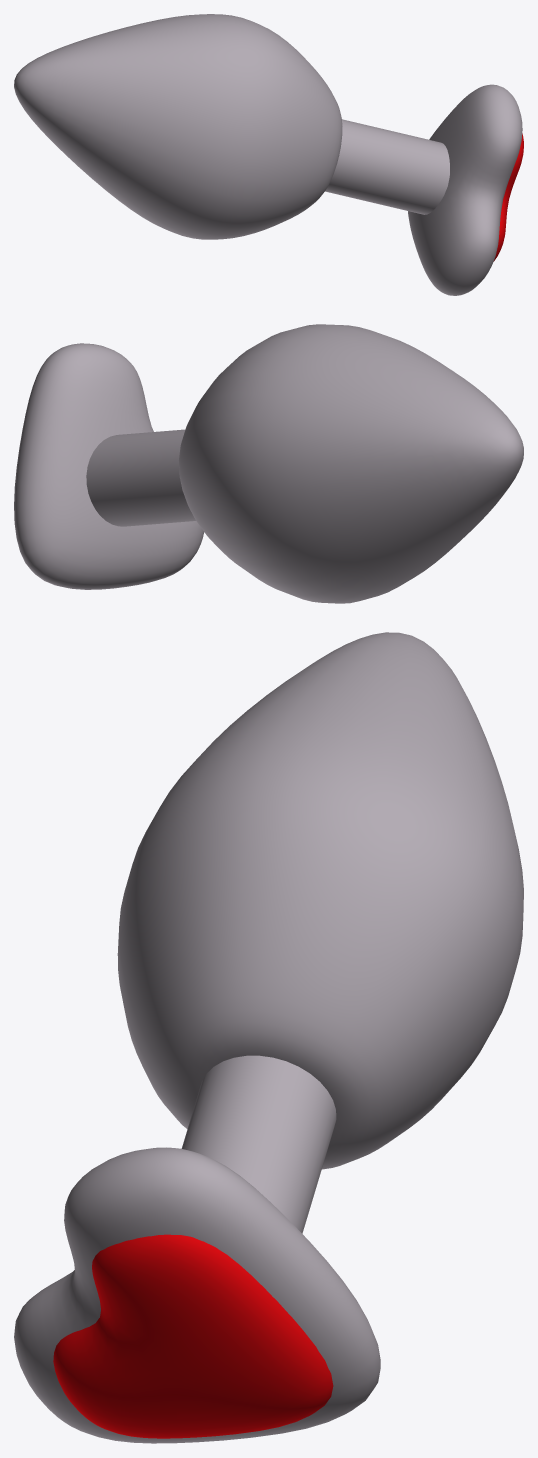
The picture shows the model from 3 angles, top to bottom: view 1: azimuth 30°, elevation 25°; view 2: azimuth 150°, elevation 25°; view 3: azimuth 270°, elevation 25°; orthographic projection. The views are drawn at different scales.
Visible parts, largest first — view 1: Cylinder; view 2: Cylinder; view 3: Cylinder.
Part boxes in pixels (box(x1,y1,x2,y2)): Cylinder: box(14, 14, 523, 295); Cylinder: box(14, 324, 523, 603); Cylinder: box(14, 632, 523, 1443).
Bounding box in the file's own units: 3.14 × 1.87 × 1.65.
